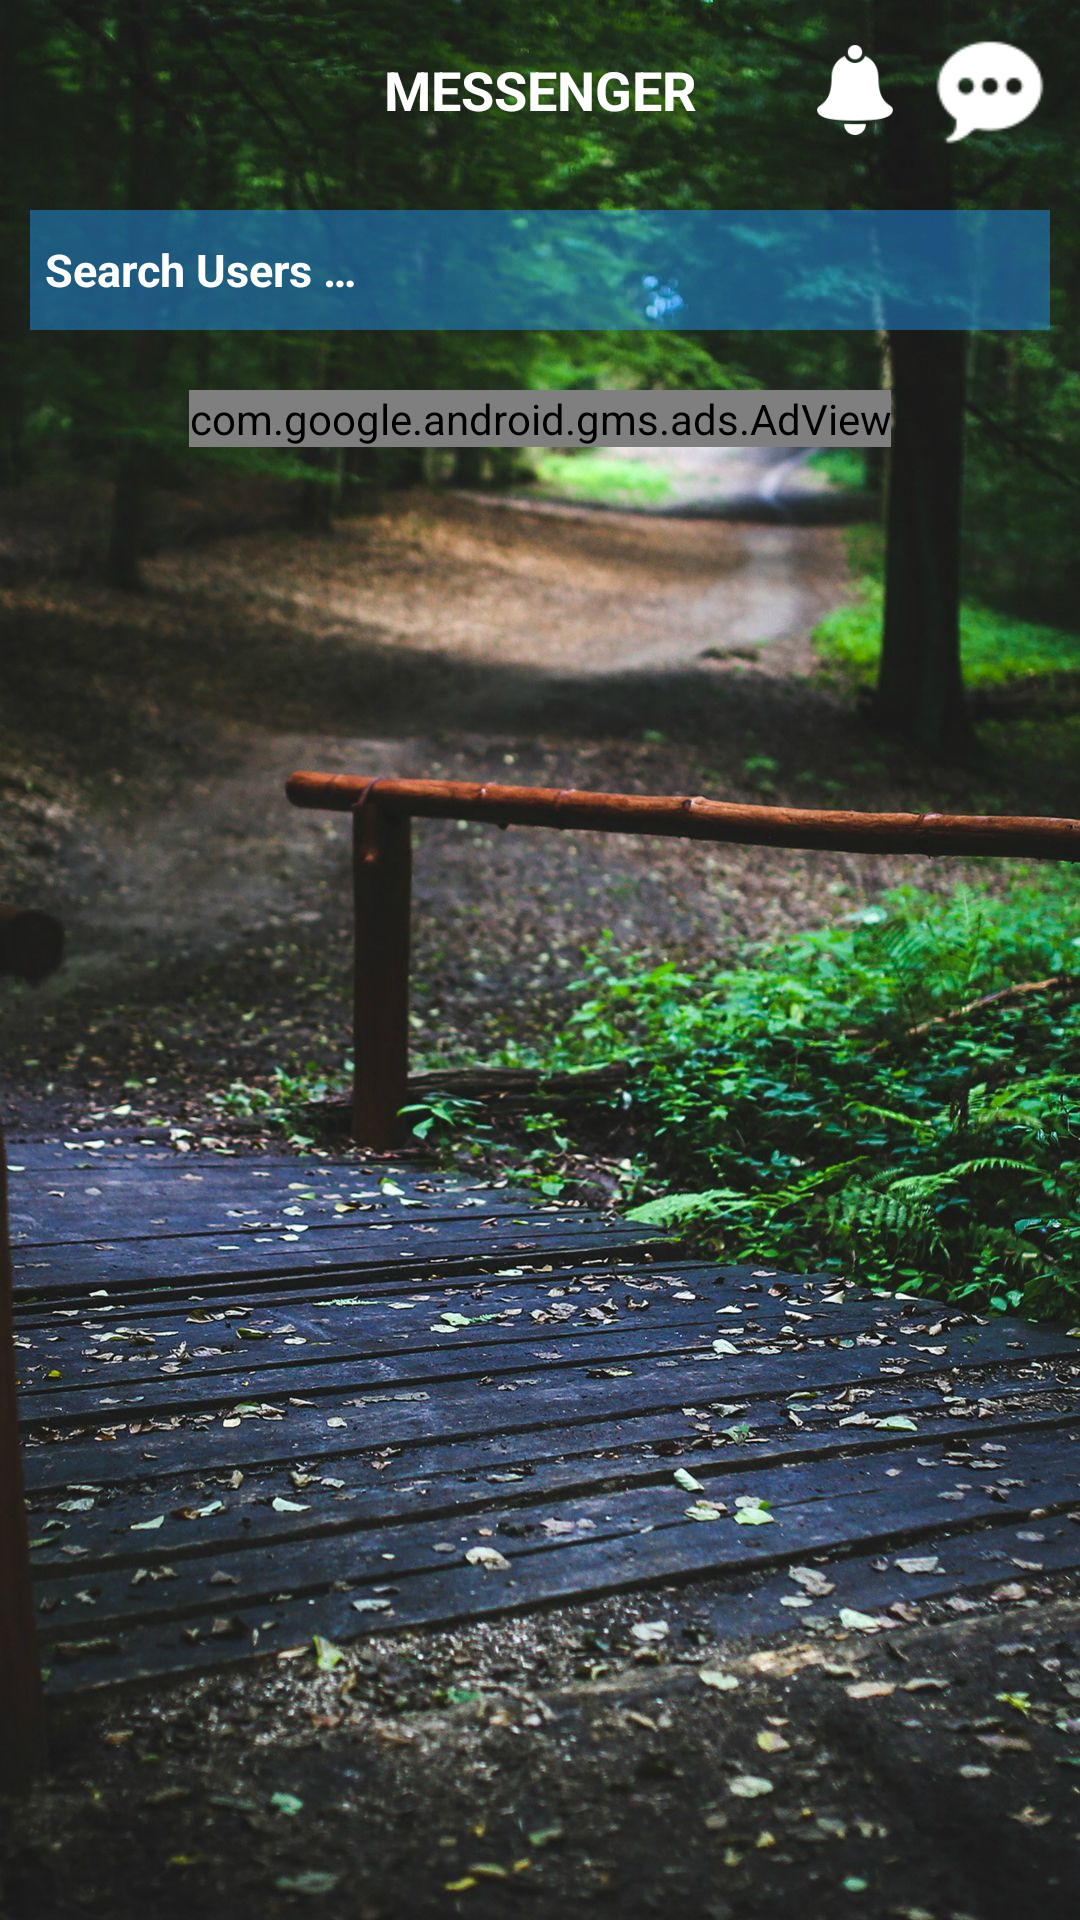

Icons on this 1080x1920 Android screen, each with the point to tap as (x,y):
mes notification: (858,90)
